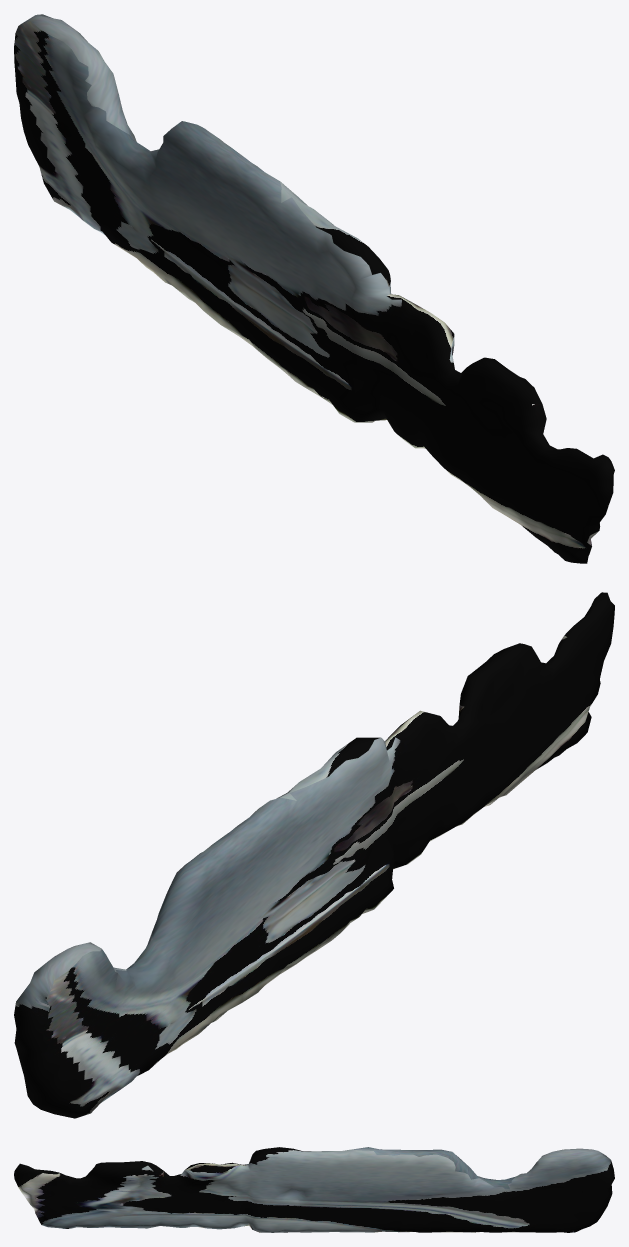
File: scan_align.obj
3 renders of one model, top to bottom at view 1: azimuth 30°, elevation 25°; view 2: azimuth 150°, elevation 25°; view 3: azimuth 270°, elevation 25°, orthographic. The views are drawn at different scales.
Size of the model in its own units: 0.00499 by 0.0193 by 0.1213.
